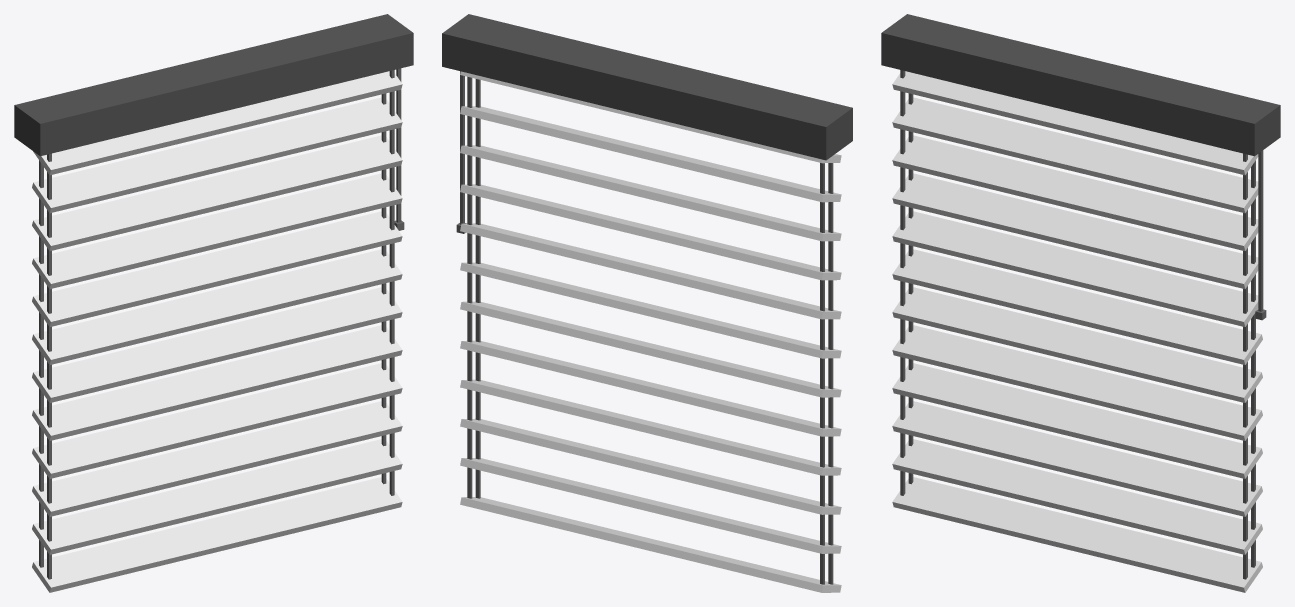
The model's file is Curtains10_C1.fbx.
3 renders of one model, left to right at view 1: azimuth 30°, elevation 25°; view 2: azimuth 150°, elevation 25°; view 3: azimuth 330°, elevation 25°, orthographic. The views are drawn at different scales.
Visible parts, largest first — view 1: Curtains10_C1; view 2: Curtains10_C1; view 3: Curtains10_C1.
Boxes of the visible parts, left/top/right/bottom form: Curtains10_C1: left=14, top=14, right=413, bottom=592; Curtains10_C1: left=442, top=14, right=852, bottom=592; Curtains10_C1: left=881, top=14, right=1280, bottom=592.
Size of the model in its own units: 106 by 128 by 12.67.
